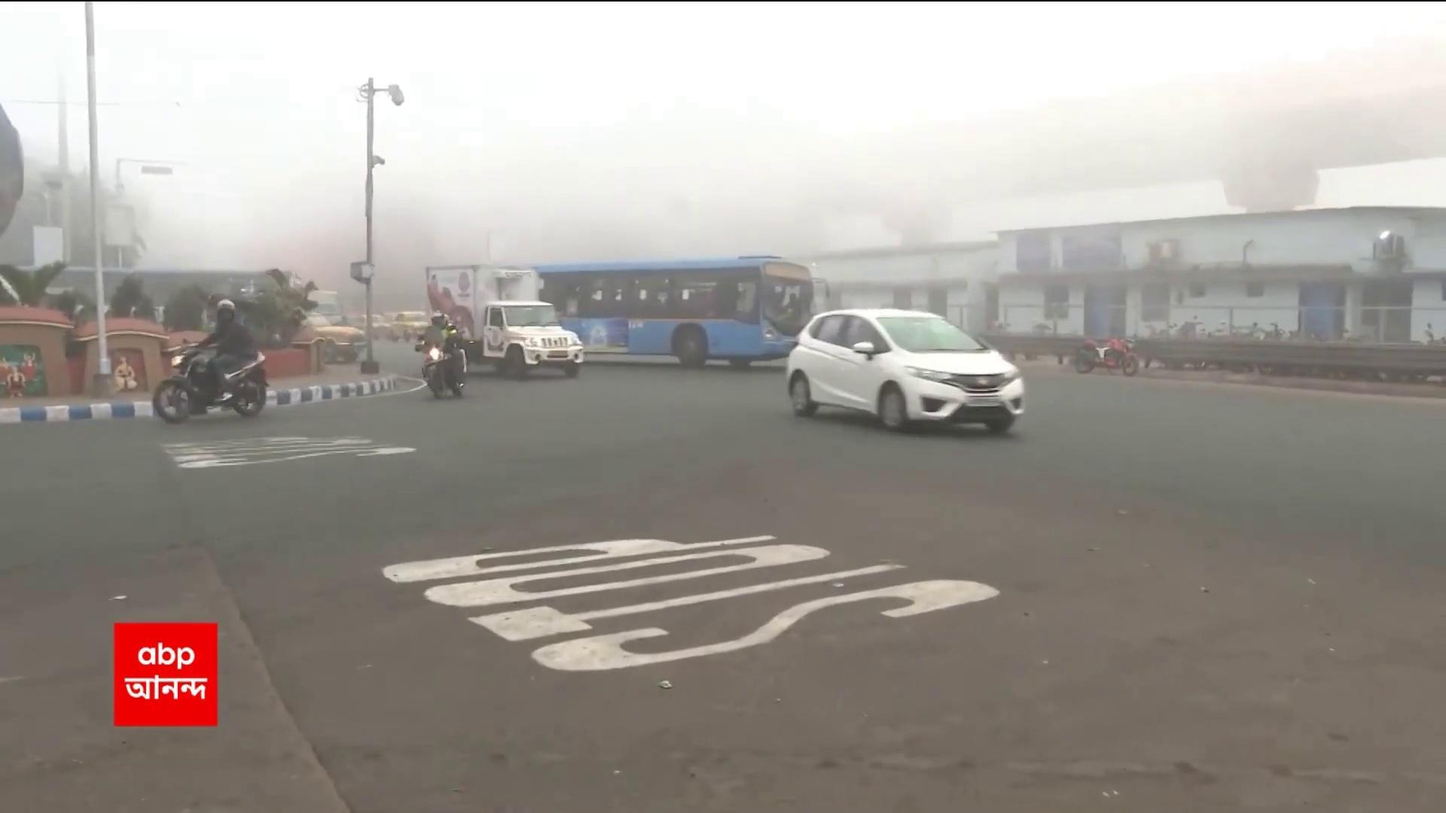Bike: (149, 299, 270, 423), (411, 311, 467, 409)
Bus: (539, 254, 820, 370)
Car: (781, 303, 1028, 438)
Truck: (427, 260, 586, 378)
